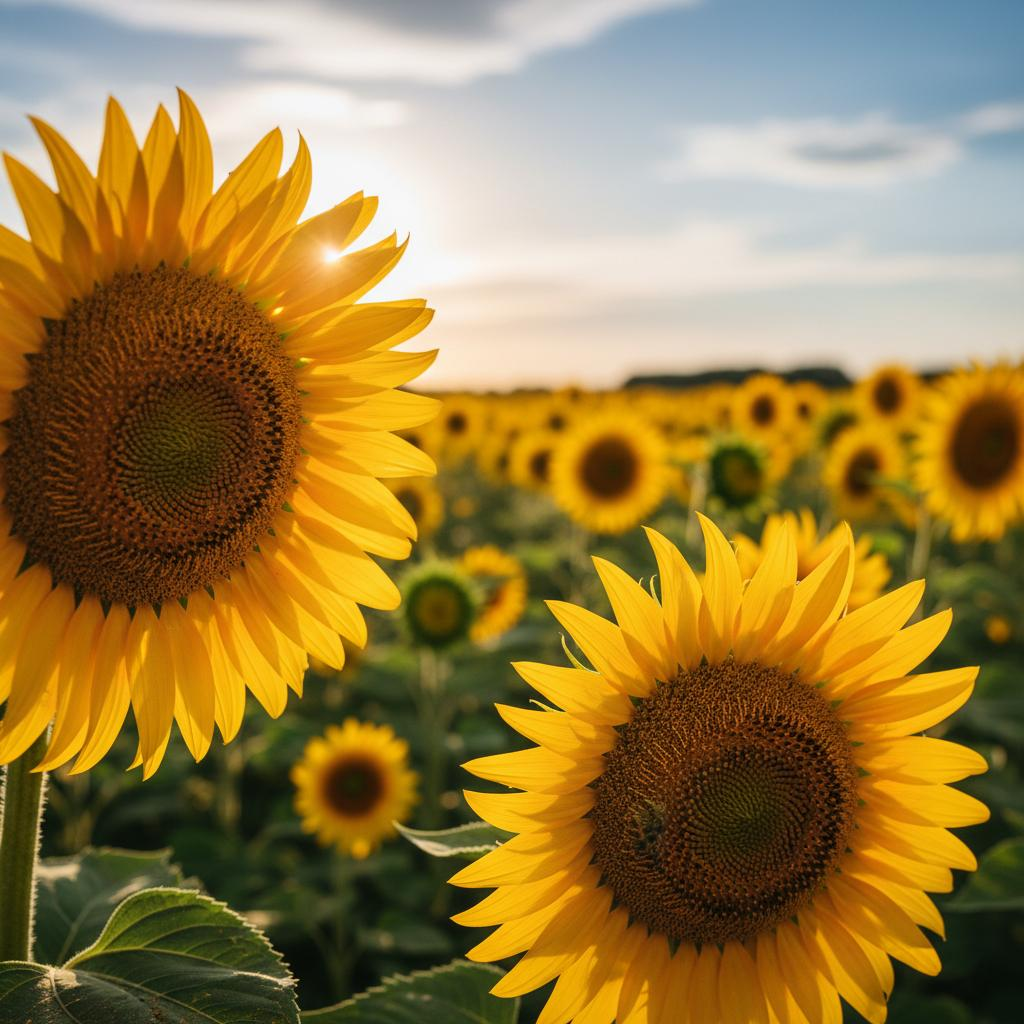sunflower: (0, 85, 442, 781), (446, 508, 991, 1022)
